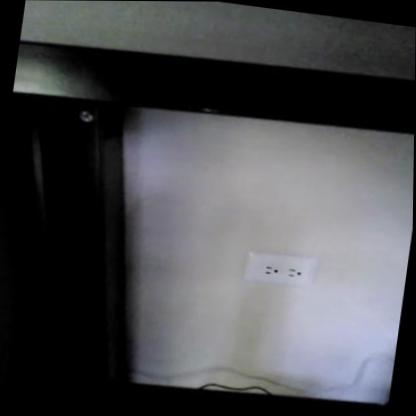OUTLET: (241, 250, 315, 290)
